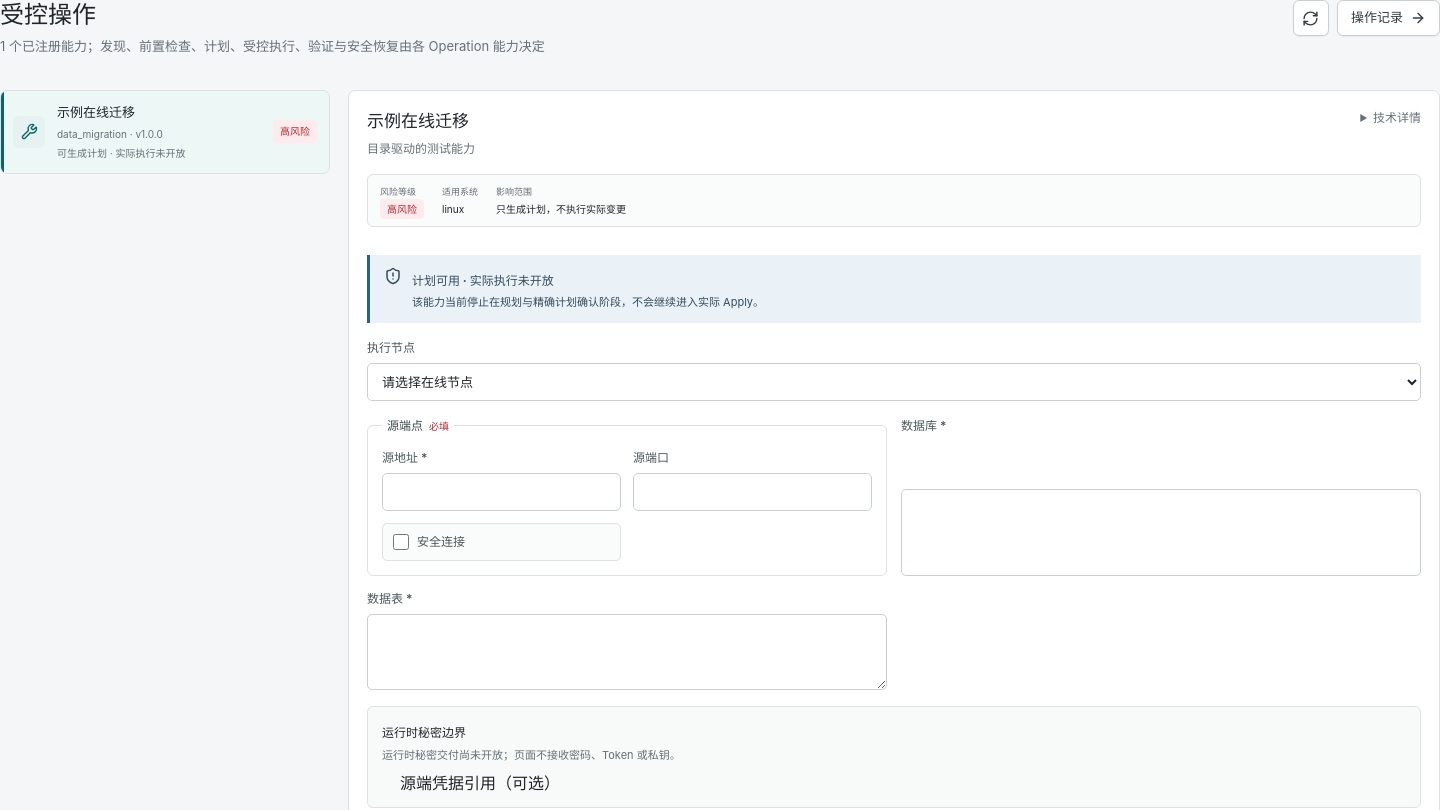
Test: OperationsPage › fails closed on missing required parameters
Expected: the heading "示例在线迁移" is shown, [367, 109, 475, 134]
Select "node-one · linux test" in the dropdown labelled "执行节点" at point(894, 382), box [367, 363, 1421, 401]
(page scrolled)
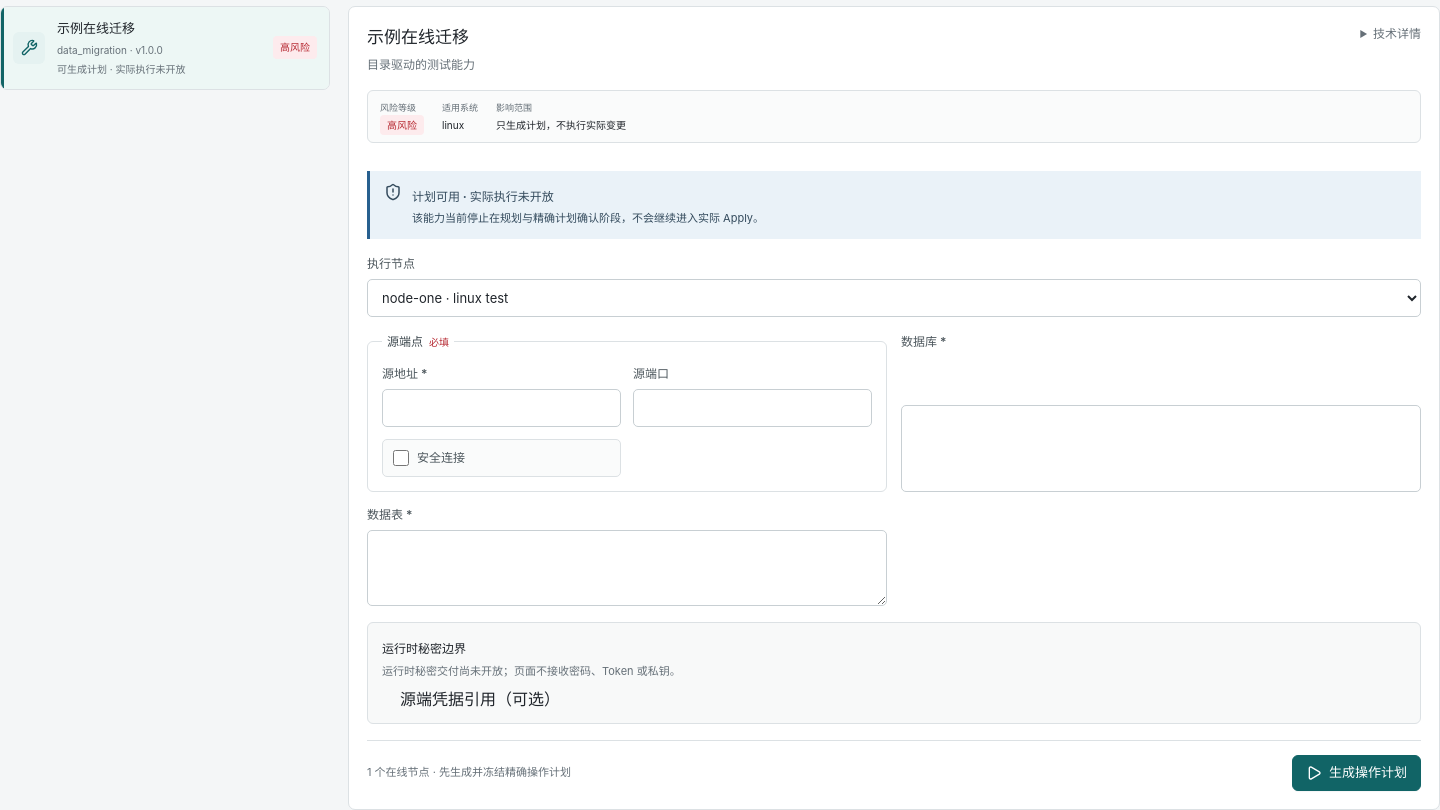
Click the button "生成操作计划".
click(1356, 773)  # box [1292, 755, 1421, 791]
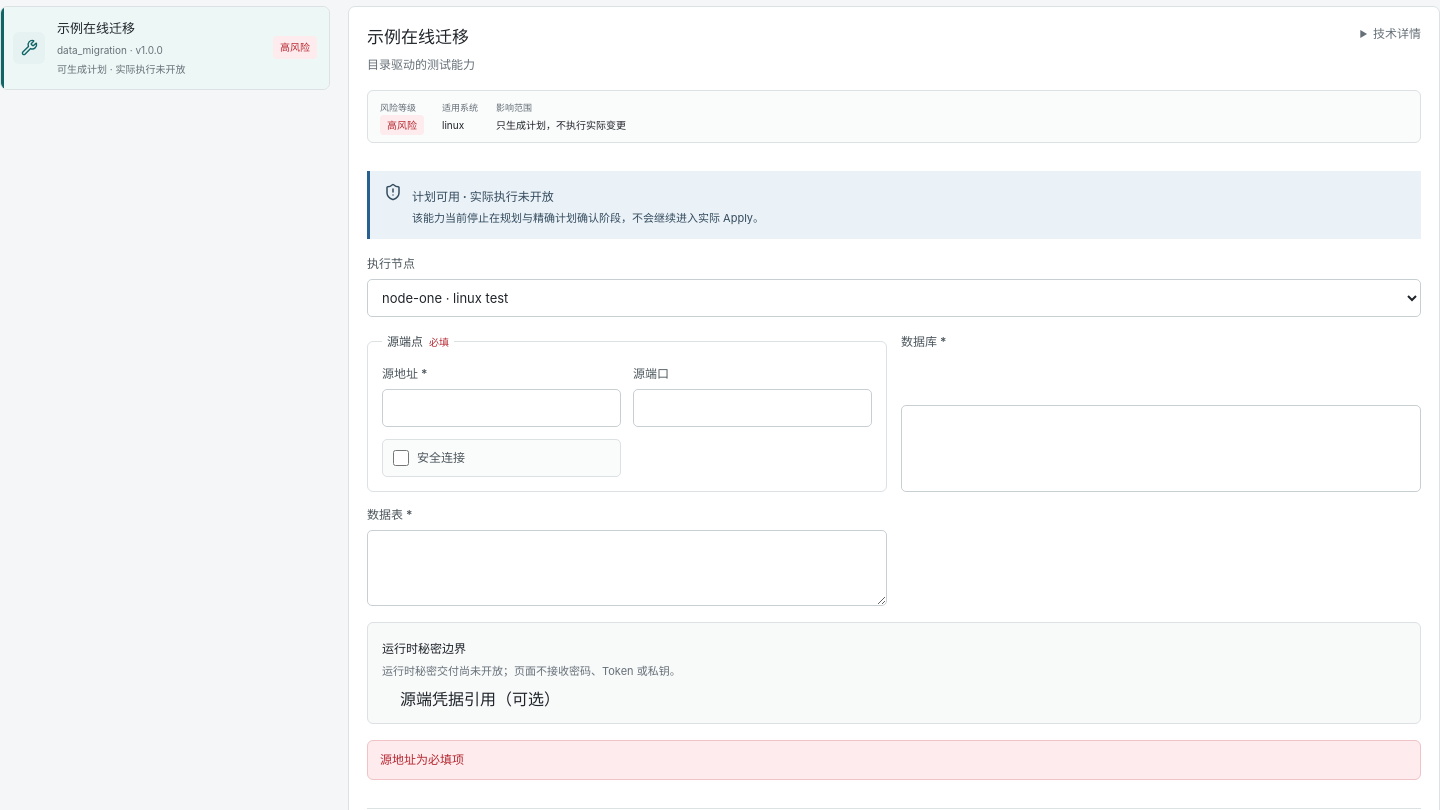
Expected: the message reads "源地址为必填项", [380, 752, 464, 767]
